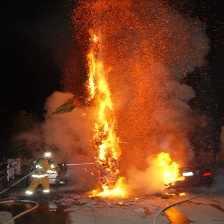fire: (77, 36, 128, 198), (158, 150, 183, 189)
smoke: (159, 28, 208, 149), (40, 91, 97, 182)
